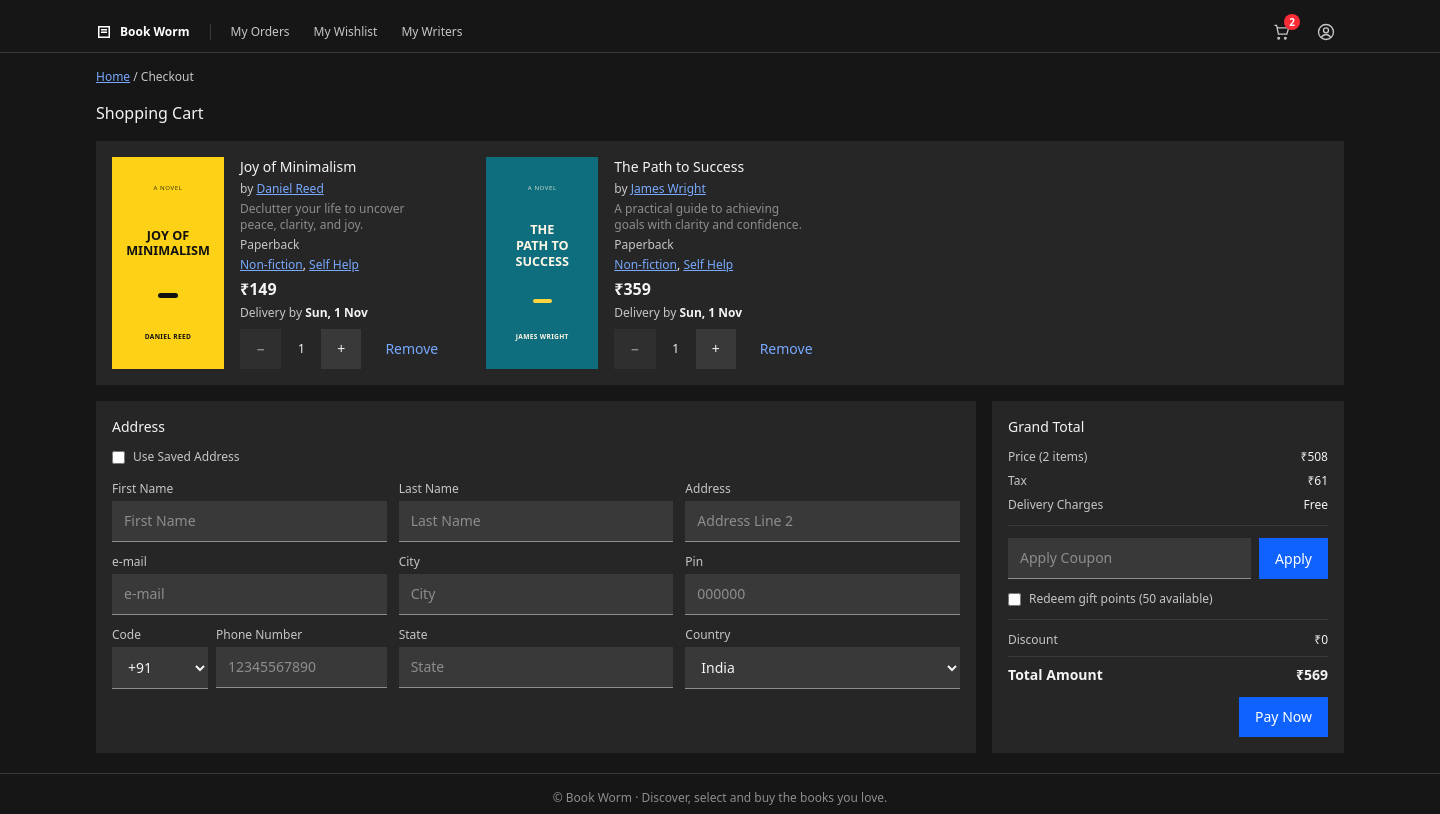
Test case: App flows › computes totals, applies a coupon, and validates the address before payment
Expected: the text "₹508" is shown, [1300,449,1328,465]
Expected: the text "₹61" is shown, [1307,473,1328,489]
Type "bookworm100" into the field labelled "Apply Coupon" at {"x": 1130, "y": 558}, box [1008,538,1251,579]
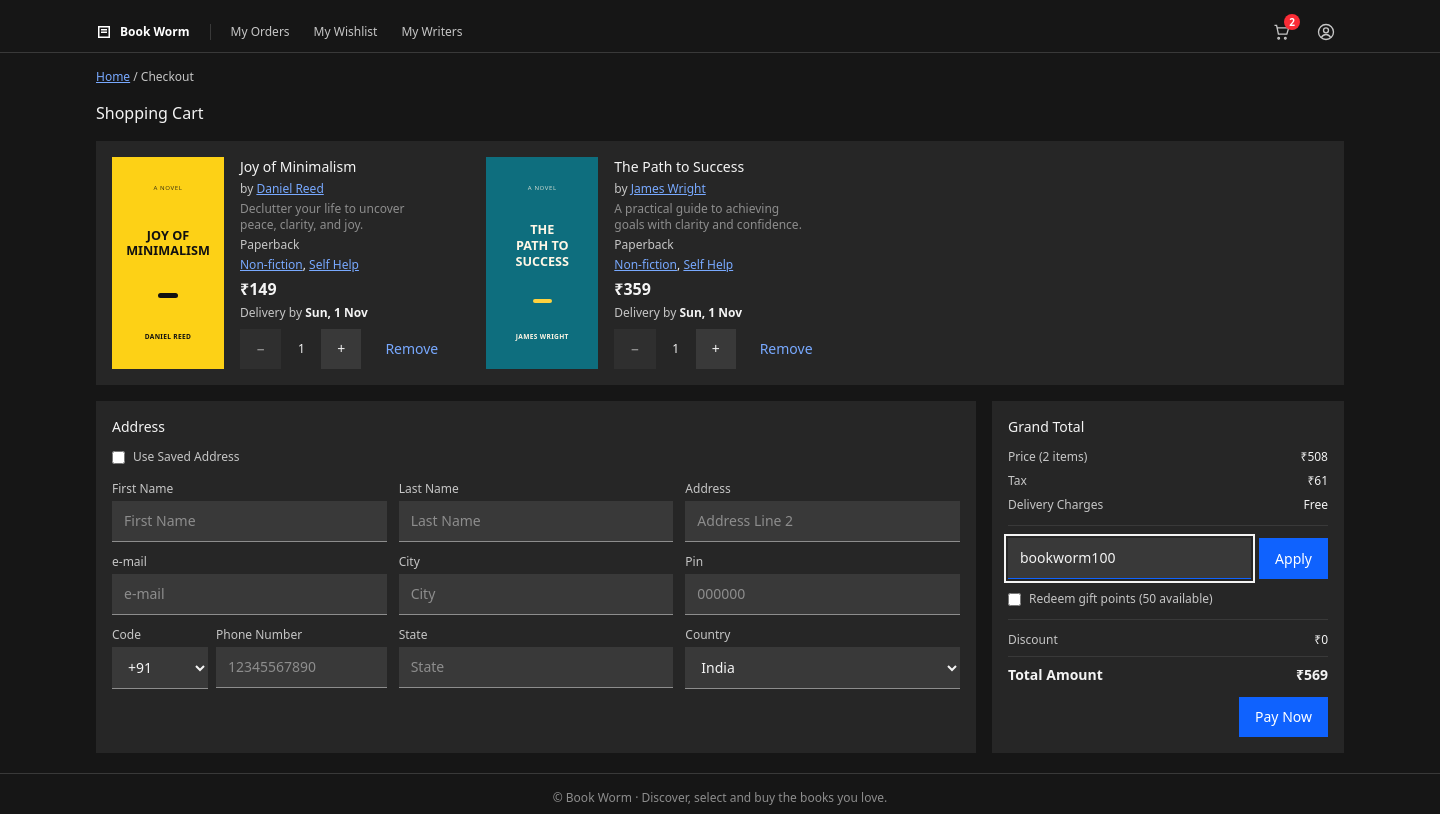
Click the button "Apply" at {"x": 1294, "y": 558}, box [1259,538,1328,579]
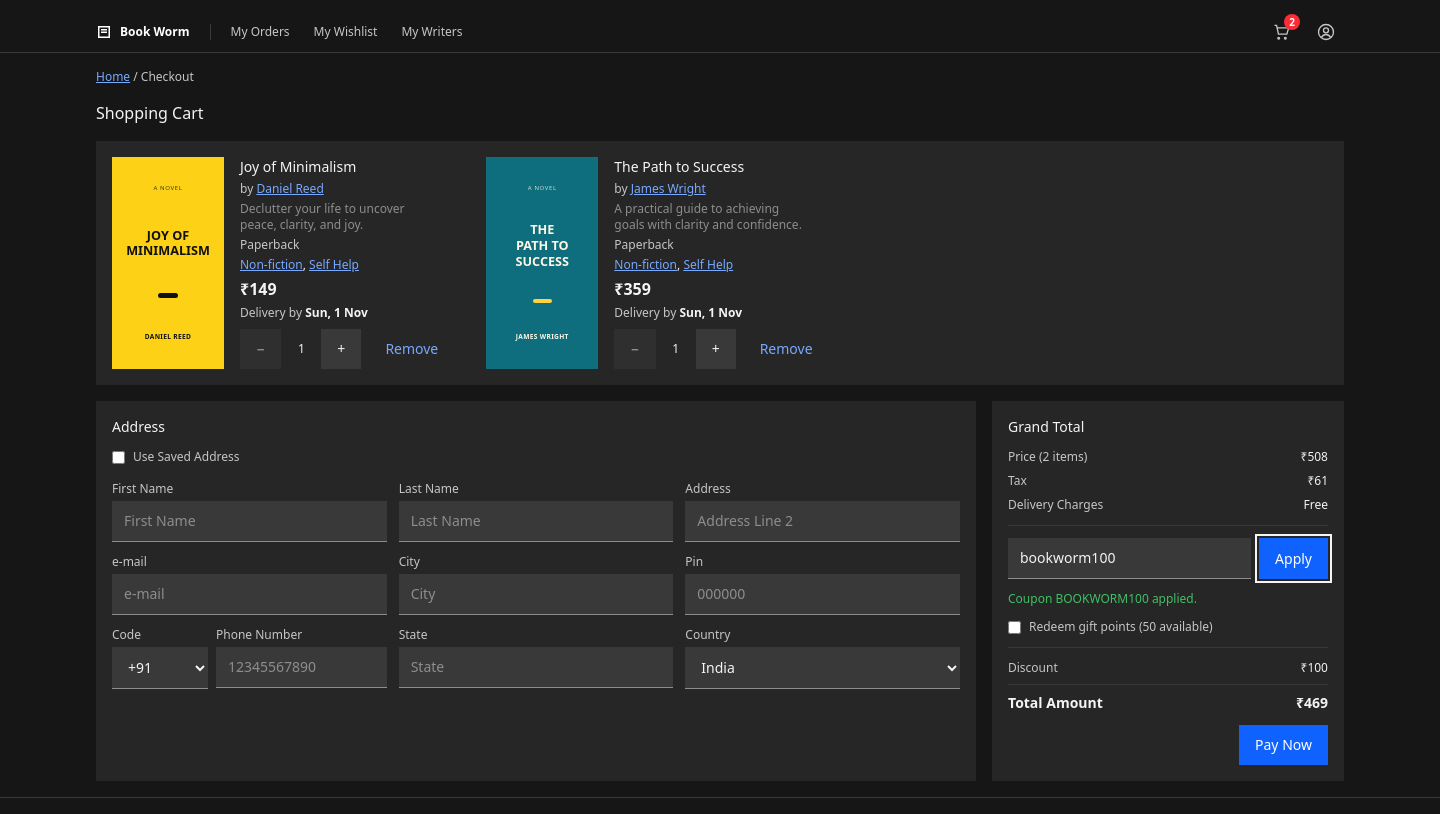
Expected: the text "Coupon BOOKWORM100 applied." is shown, [1008,590,1197,607]
Expected: the text "₹469" is shown, [1296,693,1328,713]
Click the button "Pay Now" at {"x": 1284, "y": 745}, box [1239,725,1328,765]
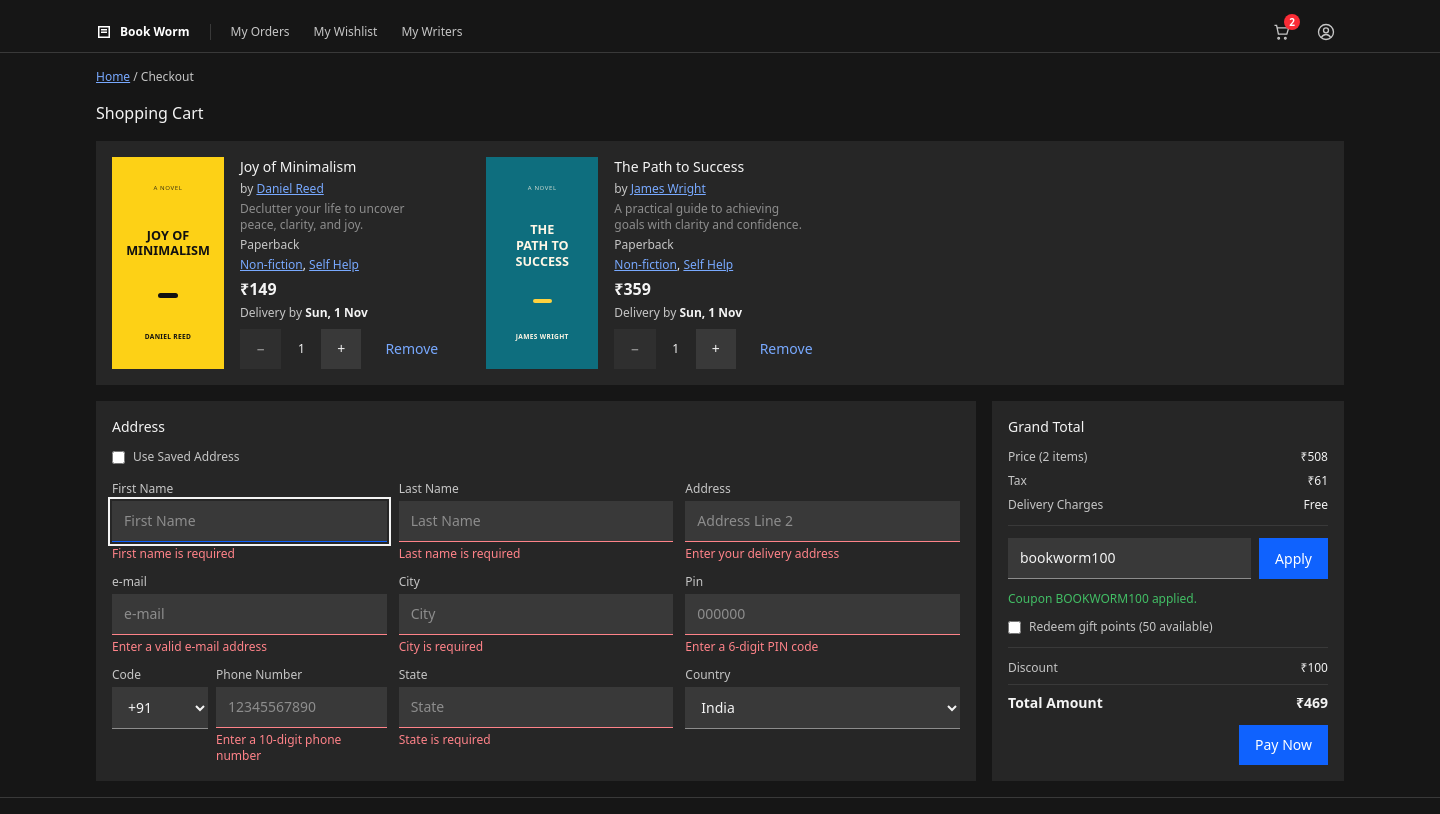
Expected: the text "First name is required" is shown, [112,545,235,562]
Expected: the text "Enter a 6-digit PIN code" is shown, [685,638,818,655]
